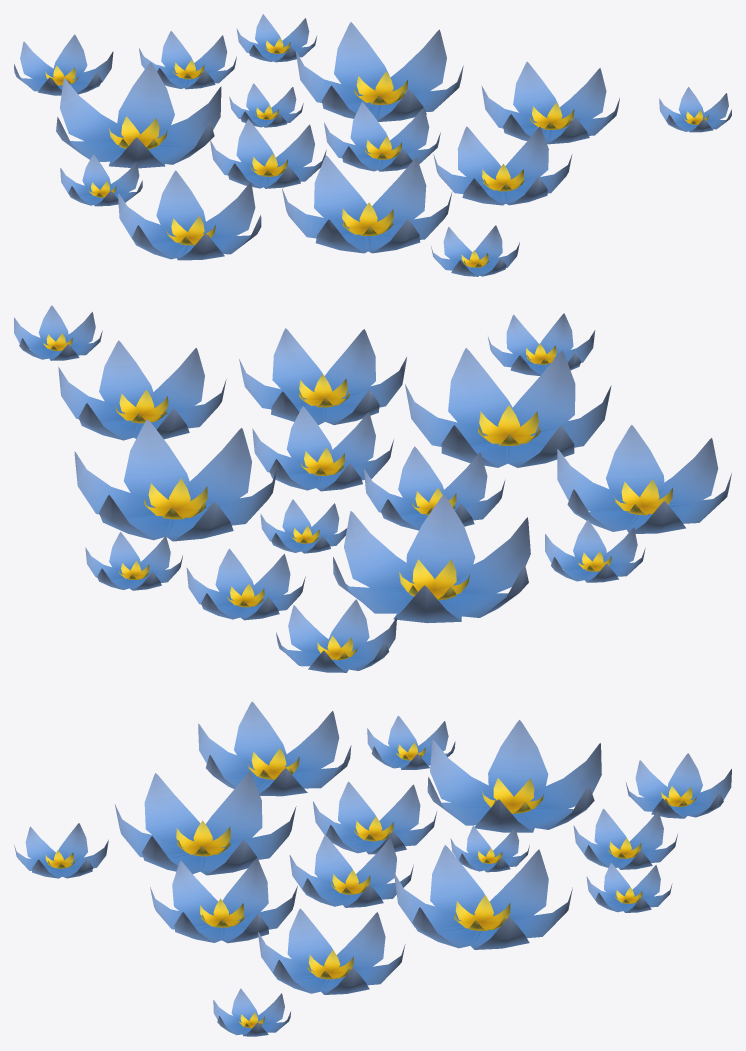
The picture shows the model from 3 angles, top to bottom: view 1: azimuth 30°, elevation 25°; view 2: azimuth 150°, elevation 25°; view 3: azimuth 270°, elevation 25°; orthographic projection. The views are drawn at different scales.
Visible parts, largest first — view 1: Circle_021; view 2: Circle_021; view 3: Circle_021.
Part boxes in pixels (x1,y1,x2,y2): Circle_021: (14,14,731,276); Circle_021: (14,305,731,672); Circle_021: (14,701,731,1036).
Size of the model in its own units: 181 by 13.5 by 179.
